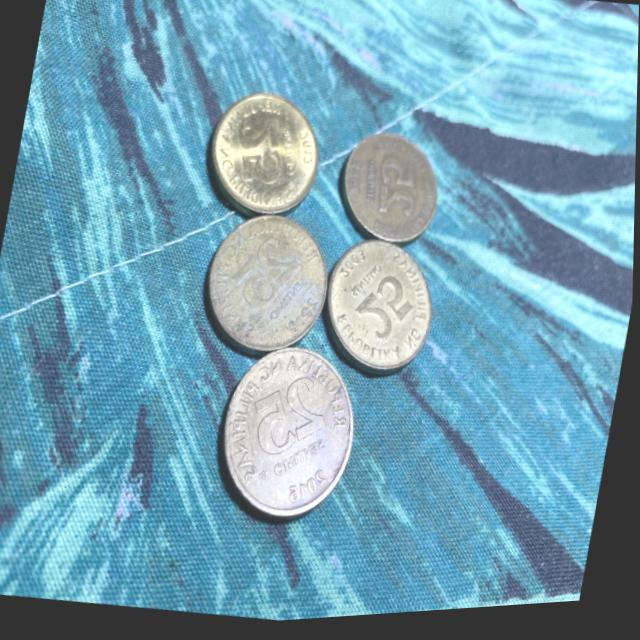25Cent_Old_Front: (251, 375, 336, 465), (233, 235, 304, 319), (234, 115, 293, 196), (358, 275, 419, 345), (371, 155, 426, 224)
